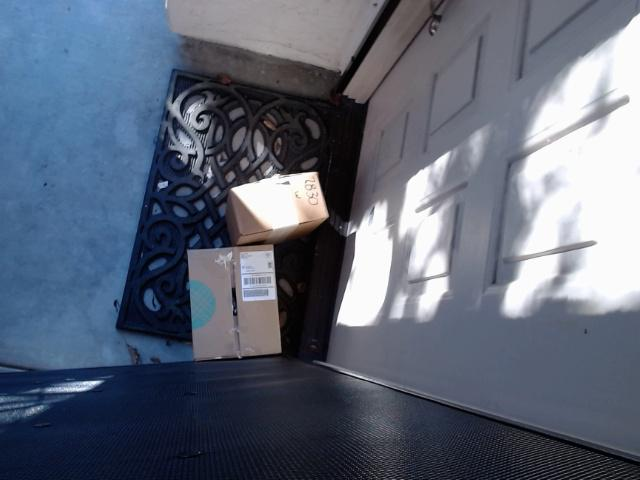box: (187, 244, 282, 362), (229, 172, 328, 246)
